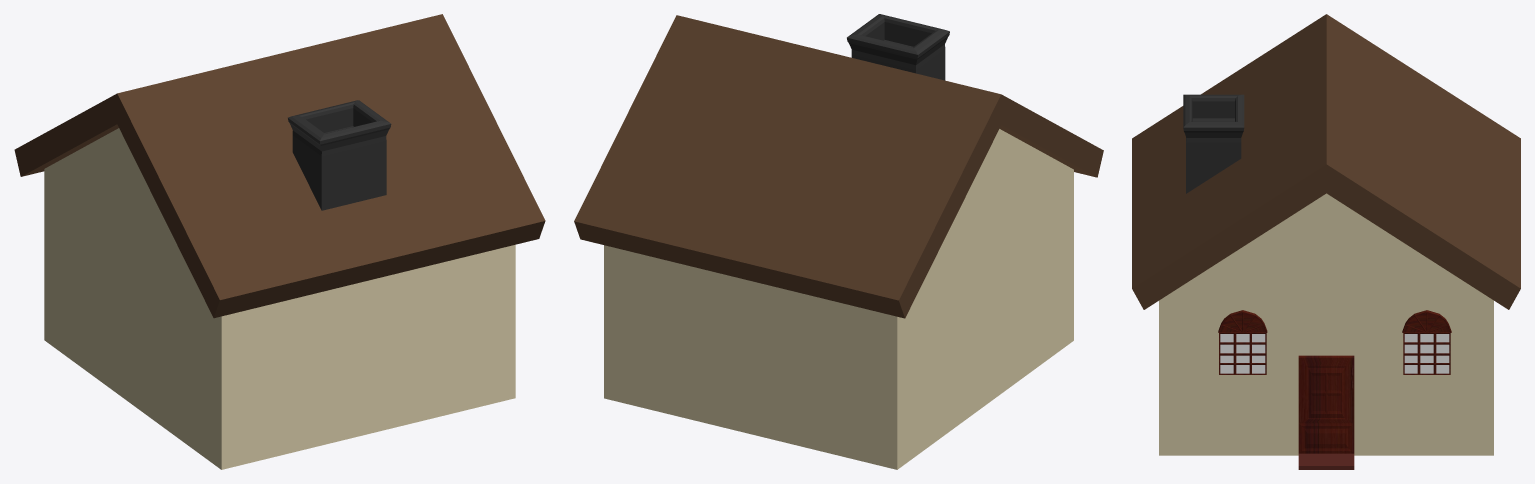
File: House2.fbx
The picture shows the model from 3 angles, left to right: view 1: azimuth 30°, elevation 25°; view 2: azimuth 150°, elevation 25°; view 3: azimuth 270°, elevation 25°; orthographic projection. The views are drawn at different scales.
Visible parts, largest first — view 1: House.001, Chimney.001; view 2: House.001, Chimney.001; view 3: House.001, door.001, Chimney.001, Window.001, Window2.001, WindowTop.003, WindowTop.002.
Part boxes in pixels (x1,y1,x2,y2): House.001: [14, 14, 545, 469]; Chimney.001: [288, 100, 391, 210]; House.001: [574, 15, 1103, 469]; Chimney.001: [847, 14, 949, 80]; House.001: [1132, 14, 1520, 455]; door.001: [1298, 355, 1354, 469]; Chimney.001: [1183, 94, 1244, 193]; Window.001: [1403, 333, 1450, 374]; Window2.001: [1219, 333, 1266, 374]; WindowTop.003: [1402, 310, 1451, 332]; WindowTop.002: [1218, 310, 1267, 332].
Size of the model in its own units: 703 by 622 by 734.
